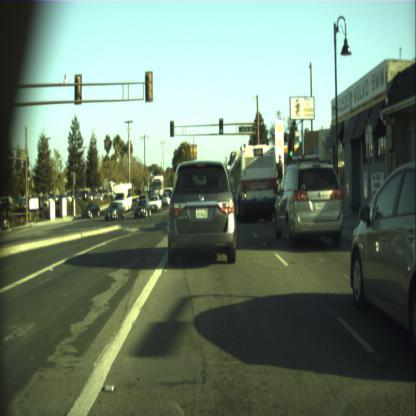Green: (288, 136, 294, 158), (218, 118, 222, 134)
RedLeft: (71, 174, 73, 184)
off: (170, 120, 173, 136)
